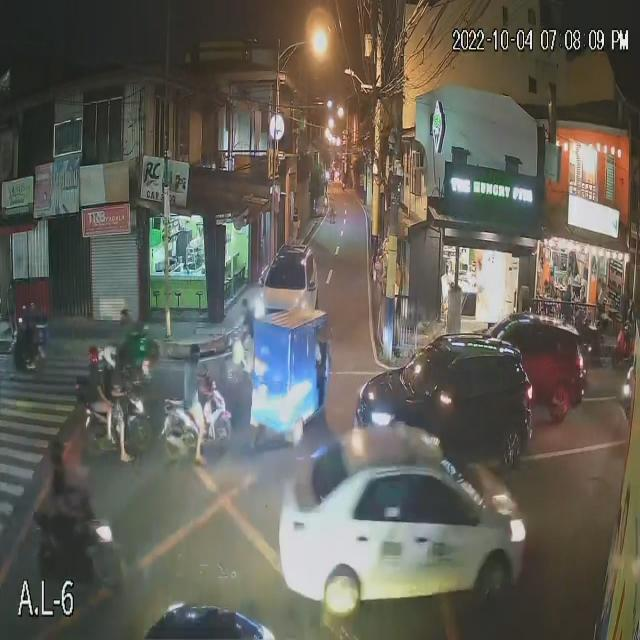helmet: (48, 437, 83, 473), (100, 342, 123, 373), (81, 344, 103, 374), (186, 340, 201, 370), (120, 308, 136, 328), (25, 301, 41, 320)
motorcycle: (26, 507, 132, 593), (160, 394, 232, 455), (85, 405, 153, 454), (90, 345, 159, 387), (7, 339, 56, 381), (570, 307, 610, 354)
rider: (48, 469, 94, 542), (181, 361, 204, 428), (107, 371, 133, 427), (83, 372, 110, 422), (121, 324, 143, 355), (23, 315, 40, 350)
